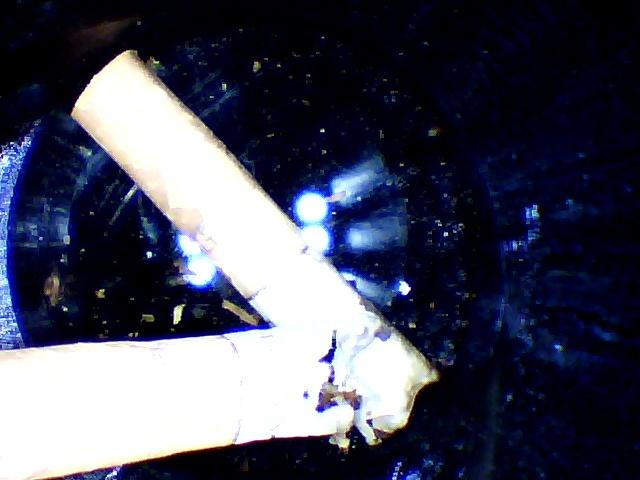megot: (69, 44, 448, 457), (1, 308, 363, 480)
